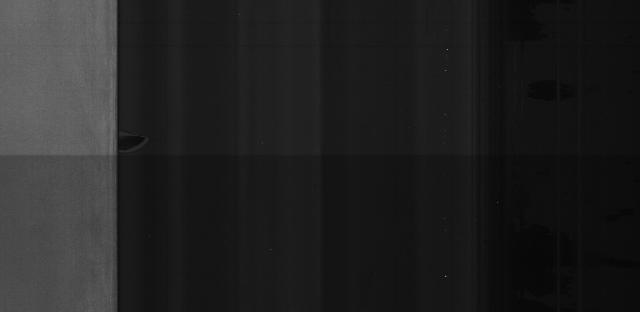welding_line: (3, 146, 131, 163)
